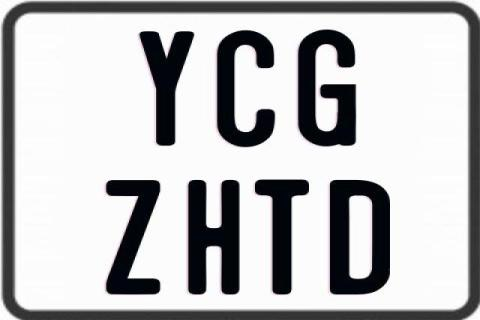C: (217, 28, 281, 148)
D: (327, 178, 390, 294)
G: (295, 28, 359, 148)
H: (187, 178, 240, 292)
T: (253, 179, 314, 295)
Y: (140, 30, 200, 148)
Z: (104, 178, 159, 292)
